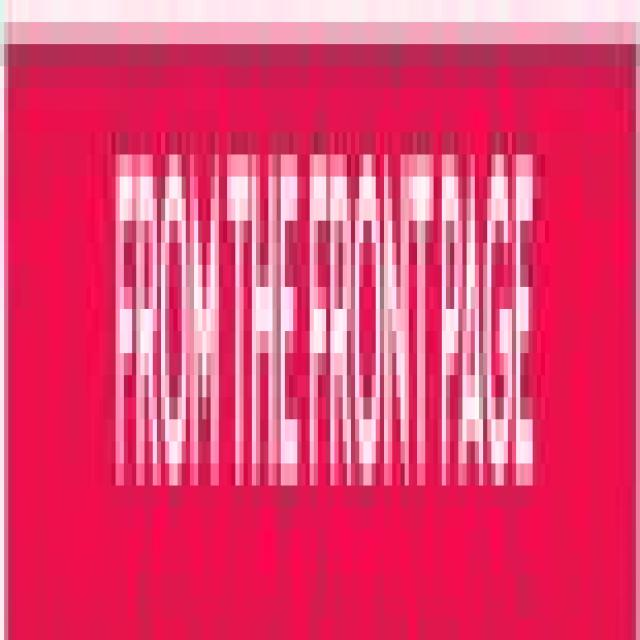paper: (4, 22, 640, 640)
